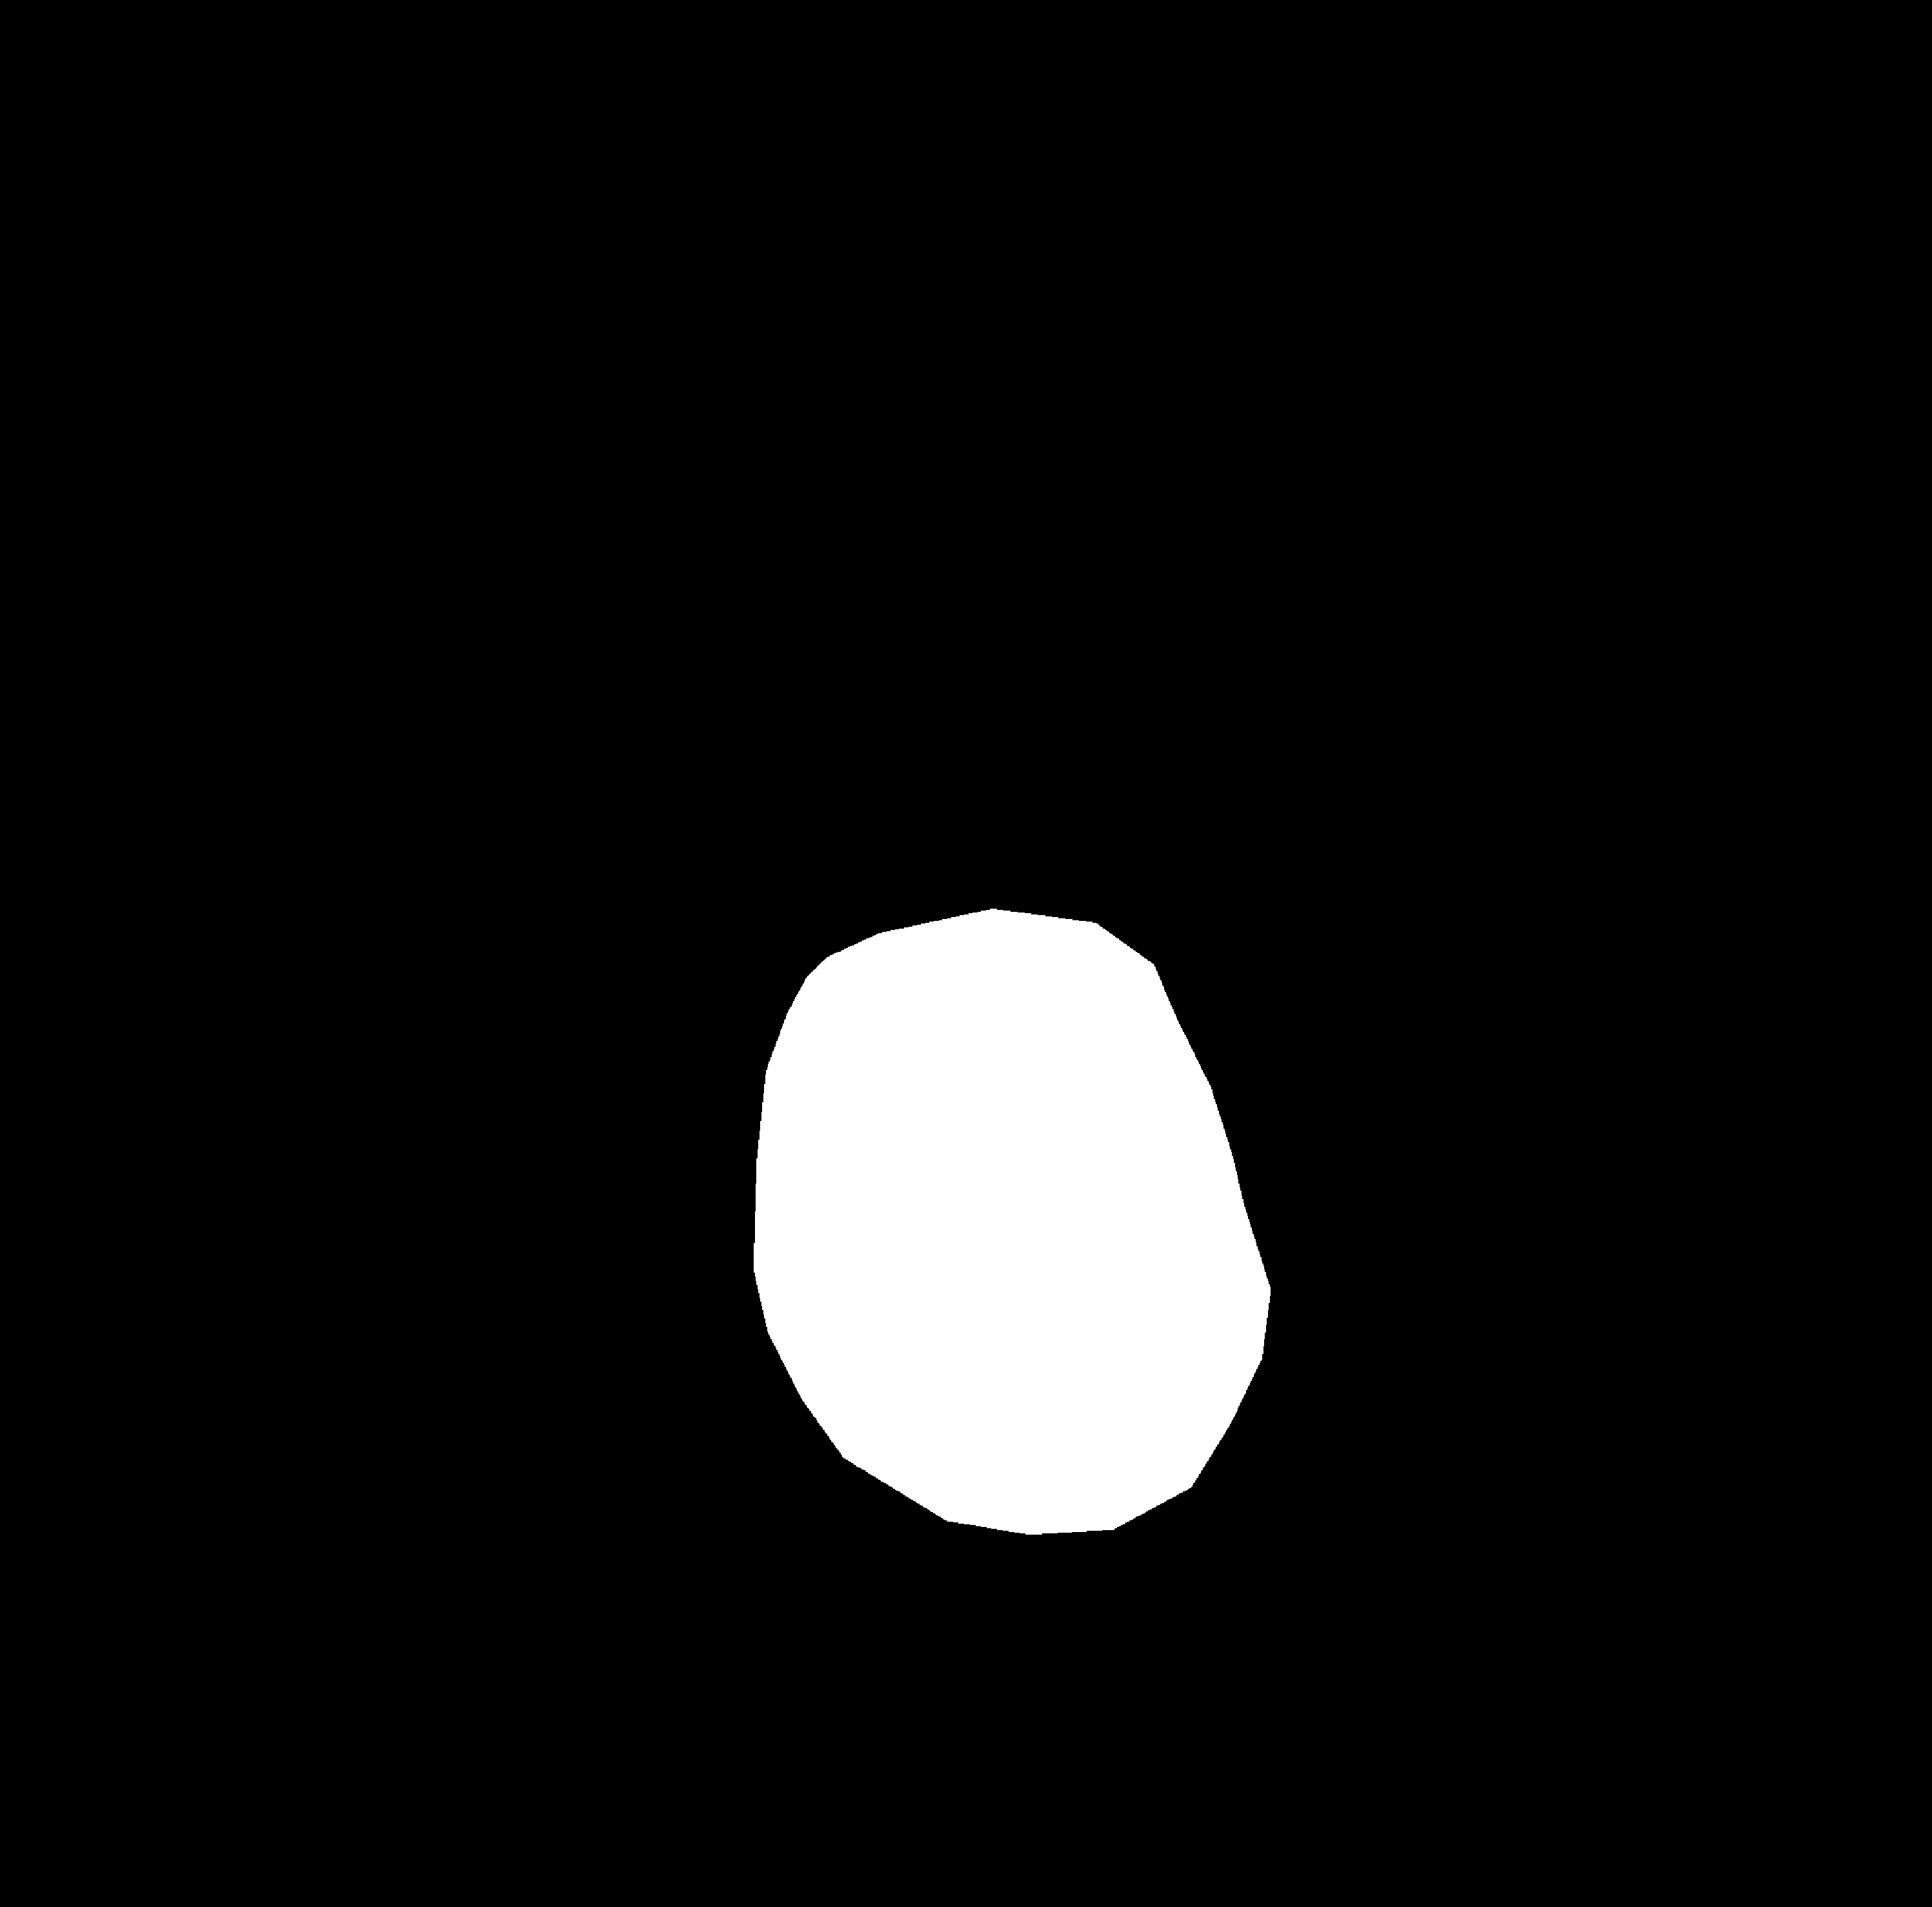heart: (751, 992, 1272, 1537)
left_lung: (279, 257, 847, 1629)
right_lung: (983, 246, 1558, 1704)
